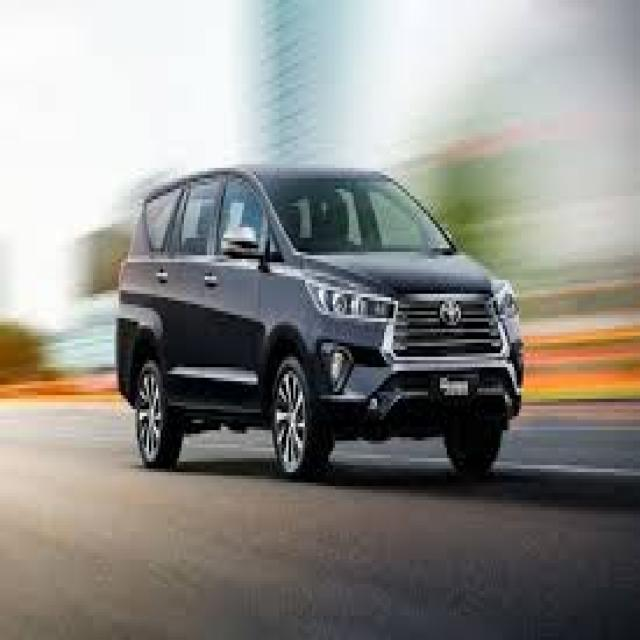light_vehicle: (115, 164, 524, 483)
